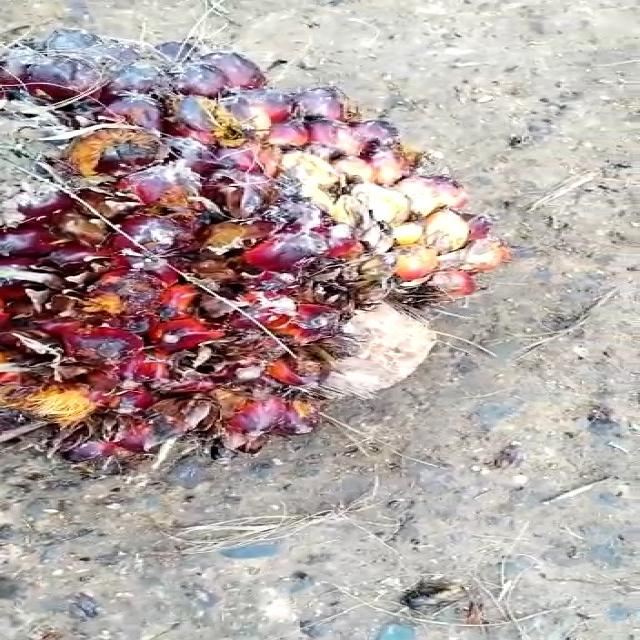palm oil: (0, 18, 495, 477)
